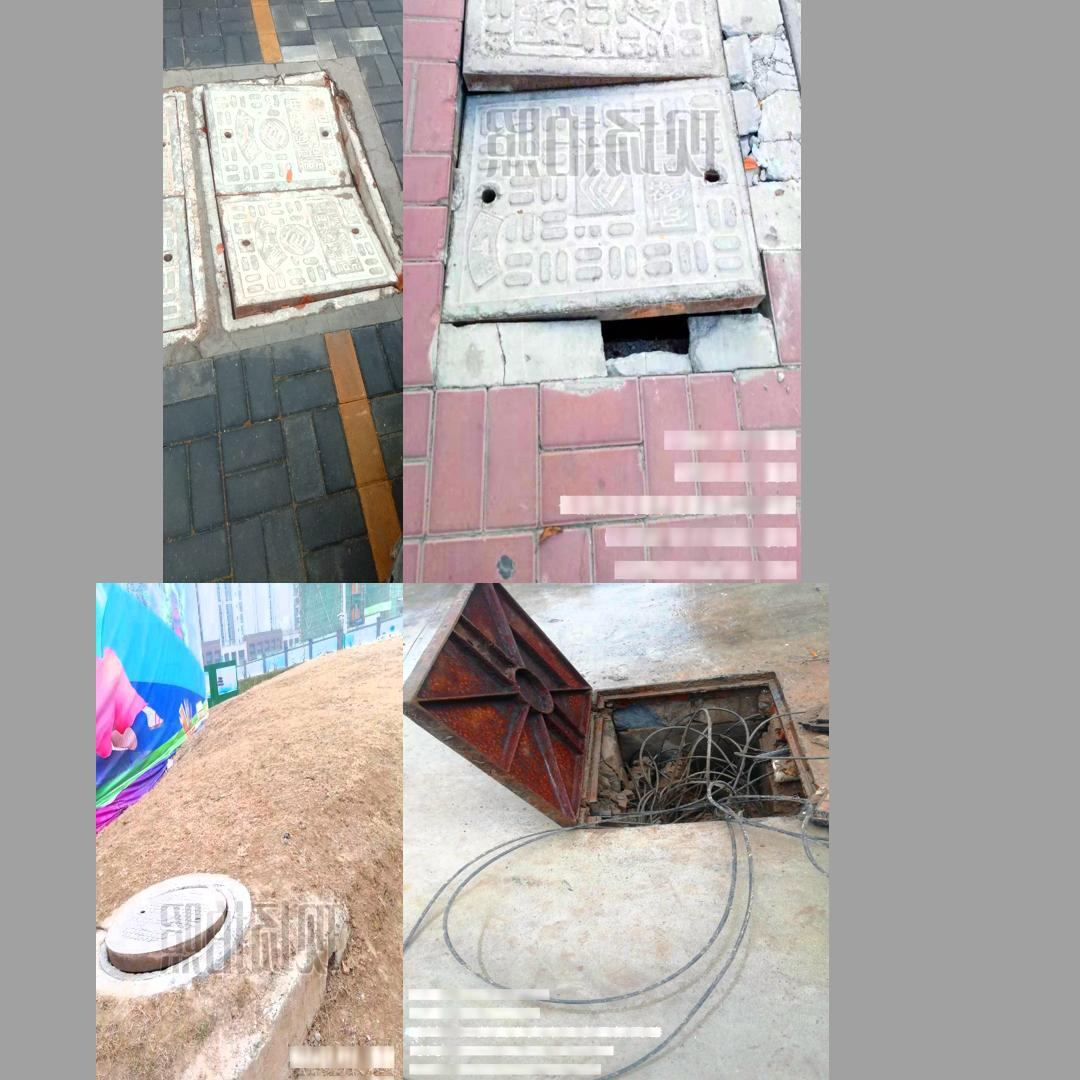uncovered: (438, 0, 773, 350), (408, 585, 829, 831), (192, 69, 400, 332), (97, 883, 237, 982)
